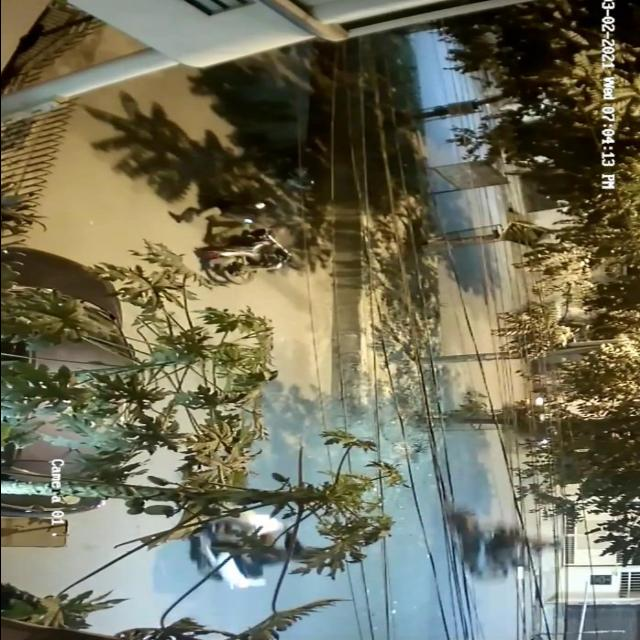accident: (166, 190, 314, 293)
